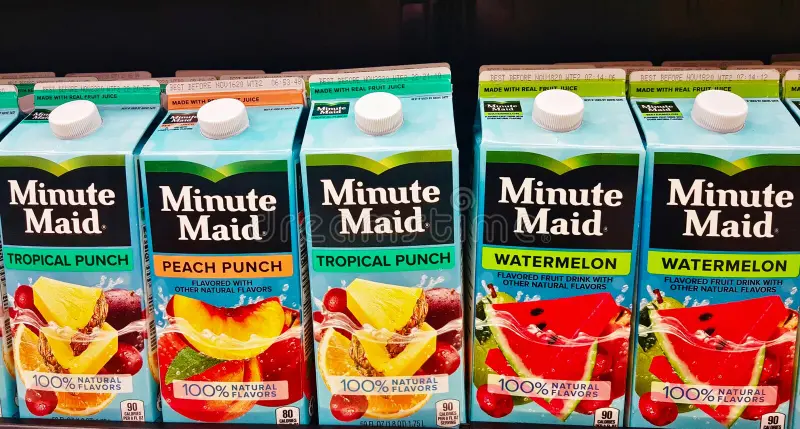juice: (50, 50, 750, 400)
